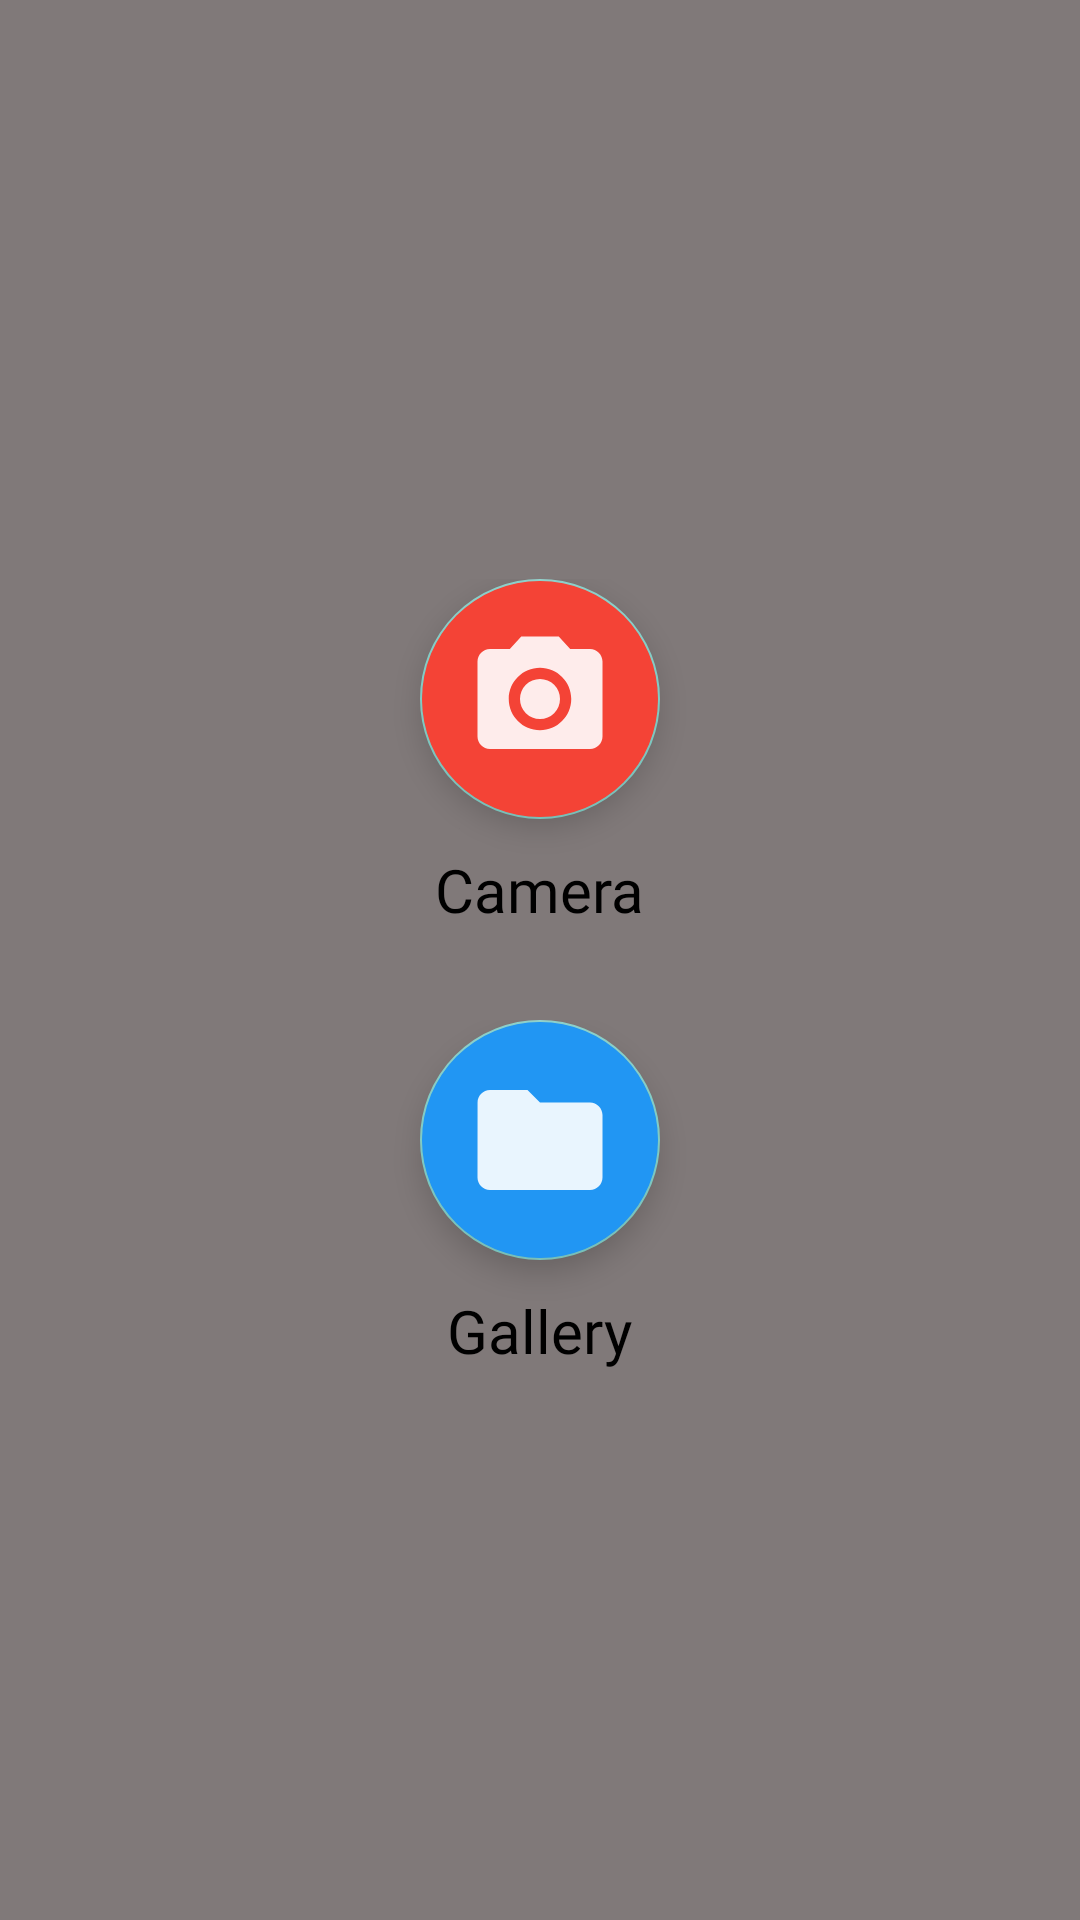

Screen size 1080w x 1920h. Icon name, then its center in pixels as [x,y]:
folder: [540,1140]
